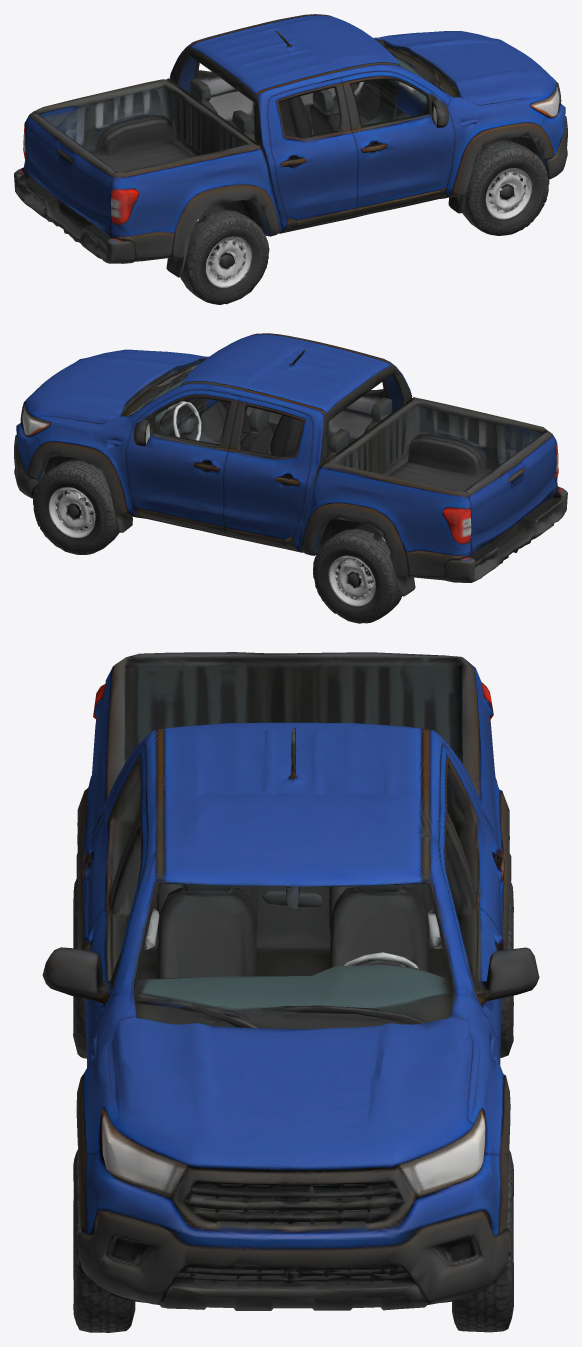
Rendered from picape.glb.
3 renders of one model, top to bottom at view 1: azimuth 30°, elevation 25°; view 2: azimuth 150°, elevation 25°; view 3: azimuth 270°, elevation 25°, orthographic. The views are drawn at different scales.
Visible parts, largest first — view 1: tripo_node_55180552-e808-4d2d-8510-f61149885d7f; view 2: tripo_node_55180552-e808-4d2d-8510-f61149885d7f; view 3: tripo_node_55180552-e808-4d2d-8510-f61149885d7f.
Boxes of the visible parts, left/top/right/bottom form: tripo_node_55180552-e808-4d2d-8510-f61149885d7f: left=14, top=14, right=567, bottom=304; tripo_node_55180552-e808-4d2d-8510-f61149885d7f: left=14, top=333, right=567, bottom=623; tripo_node_55180552-e808-4d2d-8510-f61149885d7f: left=42, top=652, right=539, bottom=1332.
Bounding box in the file's own units: 4.31 × 1.8 × 1.93.
1 material, 1 textured.
